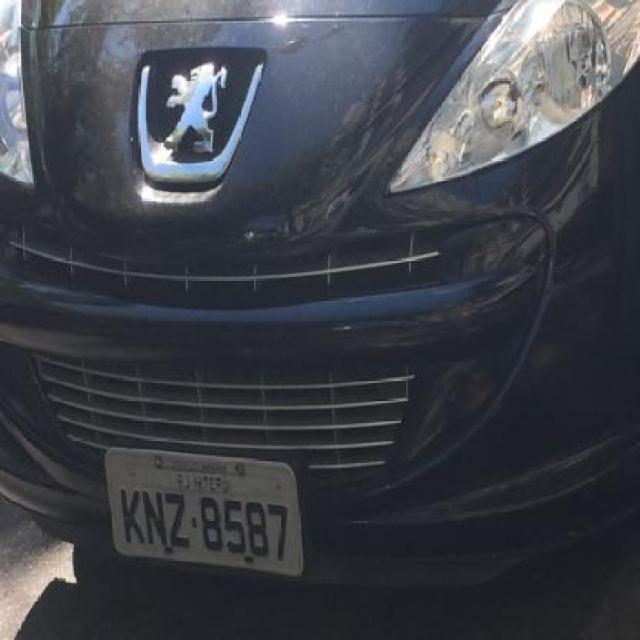old_plate: (99, 443, 310, 579)
